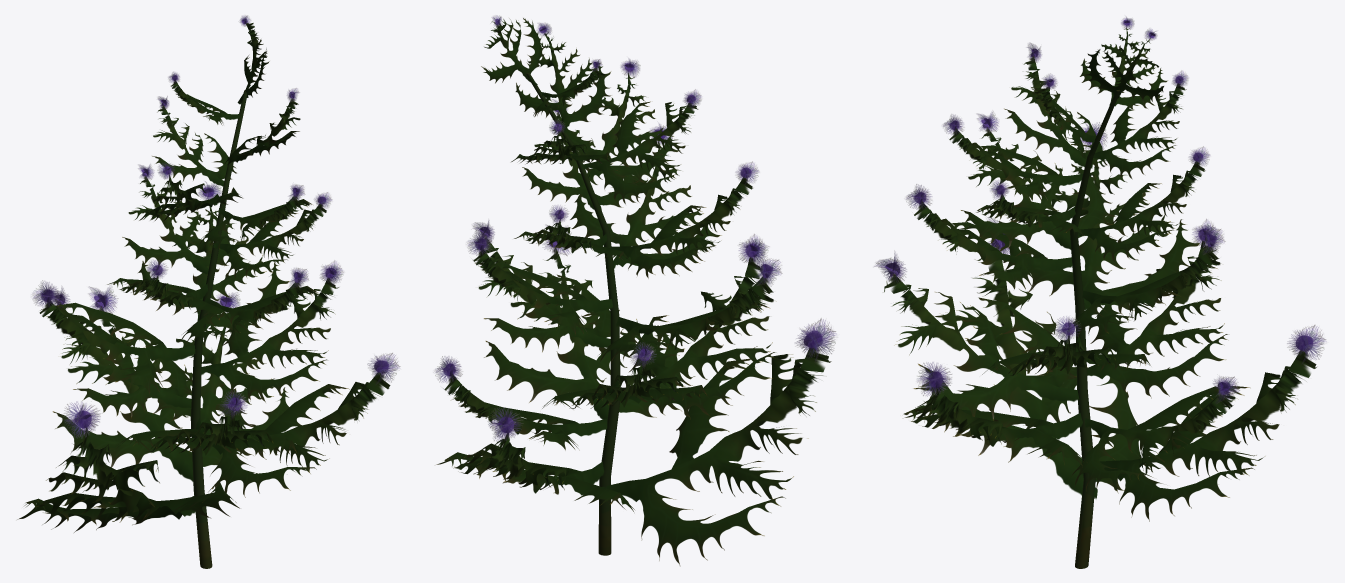
File: thistle.glb
3 views of the same model, side by side, from view 1: azimuth 30°, elevation 25°; view 2: azimuth 150°, elevation 25°; view 3: azimuth 270°, elevation 25° (orthographic). The views are drawn at different scales.
Visible parts, largest first — view 1: Leaf15_01 - Default_0, Leaf17_01 - Default_0, Leaf16_01 - Default_0, Leaf06_01 - Default_0, Leaf08_01 - Default_0, Leaf05_01 - Default_0, Leaf04_01 - Default_0, Trunk_01 - Default_0, Leaf18_01 - Default_0, Leaf07_01 - Default_0, Leaf00_01 - Default_0, Leaf12_01 - Default_0 (+8 smaller); view 2: Leaf15_01 - Default_0, Leaf05_01 - Default_0, Leaf17_01 - Default_0, Leaf16_01 - Default_0, Leaf08_01 - Default_0, Leaf11_01 - Default_0, Leaf03_01 - Default_0, Trunk_01 - Default_0, Leaf09_01 - Default_0, Leaf06_01 - Default_0, Leaf07_01 - Default_0, Leaf18_01 - Default_0 (+8 smaller); view 3: Leaf16_01 - Default_0, Leaf05_01 - Default_0, Leaf15_01 - Default_0, Leaf04_01 - Default_0, Leaf08_01 - Default_0, Leaf17_01 - Default_0, Leaf18_01 - Default_0, Leaf11_01 - Default_0, Trunk_01 - Default_0, Leaf09_01 - Default_0, Leaf00_01 - Default_0, Leaf07_01 - Default_0 (+8 smaller).
Boxes of the visible parts, bbox=[...] form: Leaf15_01 - Default_0: bbox=[17, 401, 240, 532]; Leaf17_01 - Default_0: bbox=[210, 353, 400, 497]; Leaf16_01 - Default_0: bbox=[52, 286, 253, 481]; Leaf06_01 - Default_0: bbox=[201, 260, 343, 402]; Leaf08_01 - Default_0: bbox=[32, 280, 195, 394]; Leaf05_01 - Default_0: bbox=[116, 390, 297, 455]; Leaf04_01 - Default_0: bbox=[52, 287, 192, 417]; Trunk_01 - Default_0: bbox=[190, 90, 247, 568]; Leaf18_01 - Default_0: bbox=[137, 290, 289, 452]; Leaf07_01 - Default_0: bbox=[138, 181, 289, 332]; Leaf00_01 - Default_0: bbox=[122, 164, 234, 274]; Leaf12_01 - Default_0: bbox=[213, 192, 332, 278]; Leaf15_01 - Default_0: bbox=[602, 318, 836, 566]; Leaf05_01 - Default_0: bbox=[628, 234, 775, 419]; Leaf17_01 - Default_0: bbox=[484, 224, 692, 419]; Leaf16_01 - Default_0: bbox=[436, 407, 634, 511]; Leaf08_01 - Default_0: bbox=[599, 258, 782, 362]; Leaf11_01 - Default_0: bbox=[611, 161, 759, 278]; Leaf03_01 - Default_0: bbox=[582, 89, 701, 204]; Trunk_01 - Default_0: bbox=[526, 72, 620, 555]; Leaf09_01 - Default_0: bbox=[570, 123, 721, 275]; Leaf06_01 - Default_0: bbox=[472, 220, 622, 352]; Leaf07_01 - Default_0: bbox=[467, 230, 613, 334]; Leaf18_01 - Default_0: bbox=[434, 356, 607, 450]; Leaf16_01 - Default_0: bbox=[1099, 325, 1326, 521]; Leaf05_01 - Default_0: bbox=[874, 251, 1079, 420]; Leaf15_01 - Default_0: bbox=[918, 217, 1150, 498]; Leaf04_01 - Default_0: bbox=[1087, 219, 1227, 398]; Leaf08_01 - Default_0: bbox=[1005, 121, 1201, 310]; Leaf17_01 - Default_0: bbox=[903, 362, 1087, 467]; Leaf18_01 - Default_0: bbox=[1071, 376, 1239, 493]; Leaf11_01 - Default_0: bbox=[961, 111, 1115, 249]; Trunk_01 - Default_0: bbox=[1069, 90, 1119, 568]; Leaf09_01 - Default_0: bbox=[906, 184, 1072, 289]; Leaf00_01 - Default_0: bbox=[1077, 146, 1210, 261]; Leaf07_01 - Default_0: bbox=[1072, 229, 1225, 337].
Bounding box in the file's own units: 1.12 × 1.74 × 1.26.
1 material, 1 textured.
